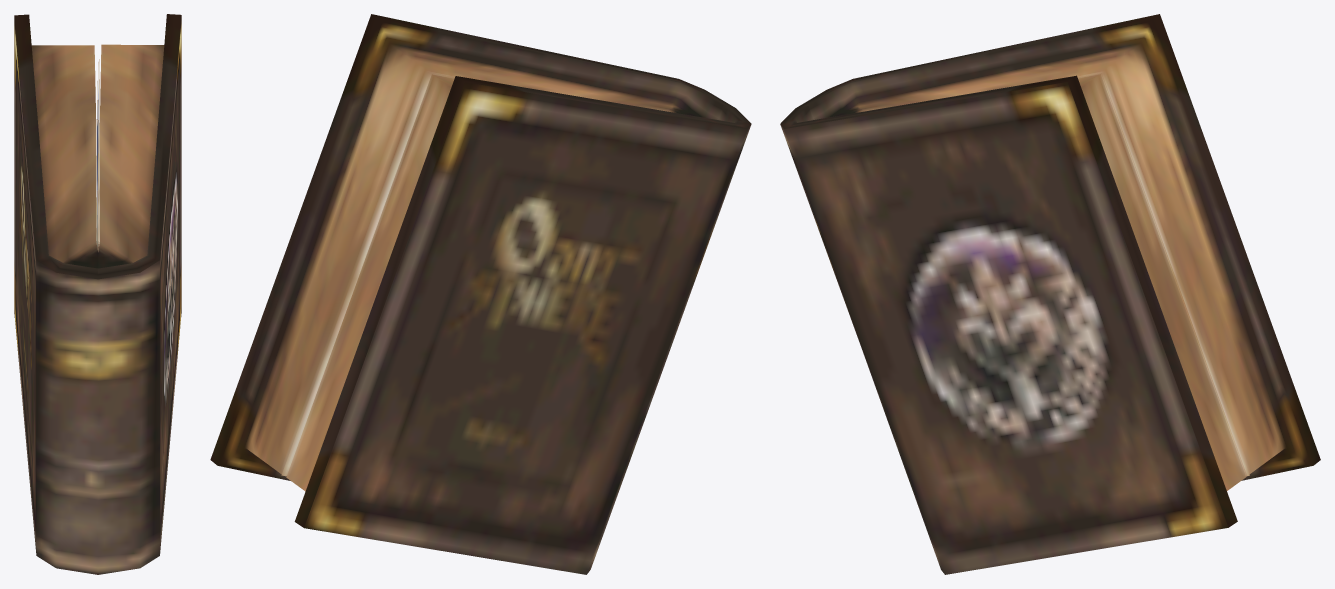
Rendered from ps2_save-icons_odin-sphere.glb.
3 views of the same model, side by side, from view 1: azimuth 30°, elevation 25°; view 2: azimuth 150°, elevation 25°; view 3: azimuth 270°, elevation 25° (orthographic). The views are drawn at different scales.
Visible parts, largest first — view 1: view.ico; view 2: view.ico; view 3: view.ico.
Part boxes in pixels (x1,y1,x2,y2): view.ico: (14, 14, 181, 574); view.ico: (210, 14, 751, 574); view.ico: (780, 14, 1320, 574).
Size of the model in its own units: 2.33 by 3.48 by 3.13.
Materials: 1 (1 with a texture image).
